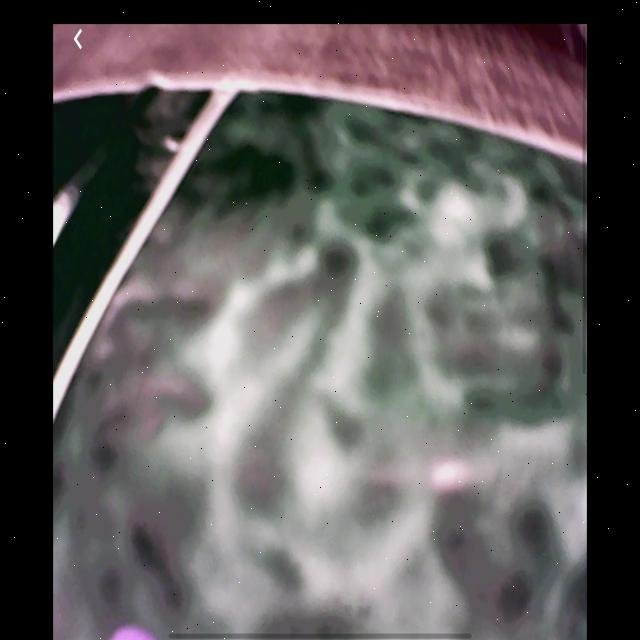ball: (109, 623, 157, 639)
